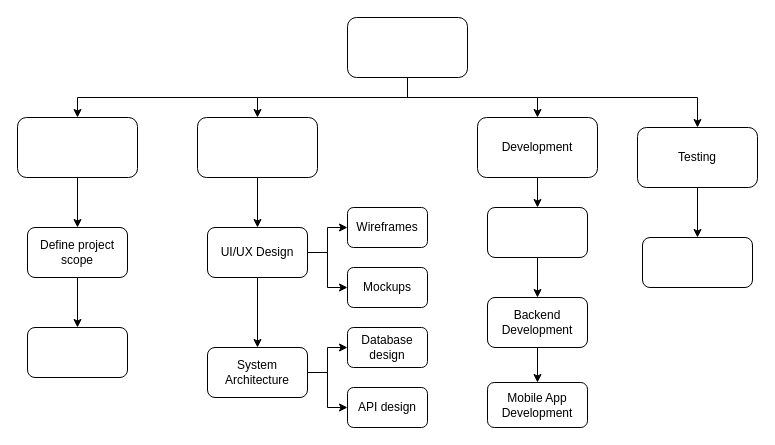
Some shapes in this 775 by 445 pixel diagram are drawn without their labels. Here are the shapes that lost their labels. From the top down, the centre of each, then its label:
the point at 407,47: BWS
the point at 77,147: Planning
the point at 257,147: Design
the point at 537,232: Frontend development
the point at 697,262: Fix Bug
the point at 77,352: Plan schedule
